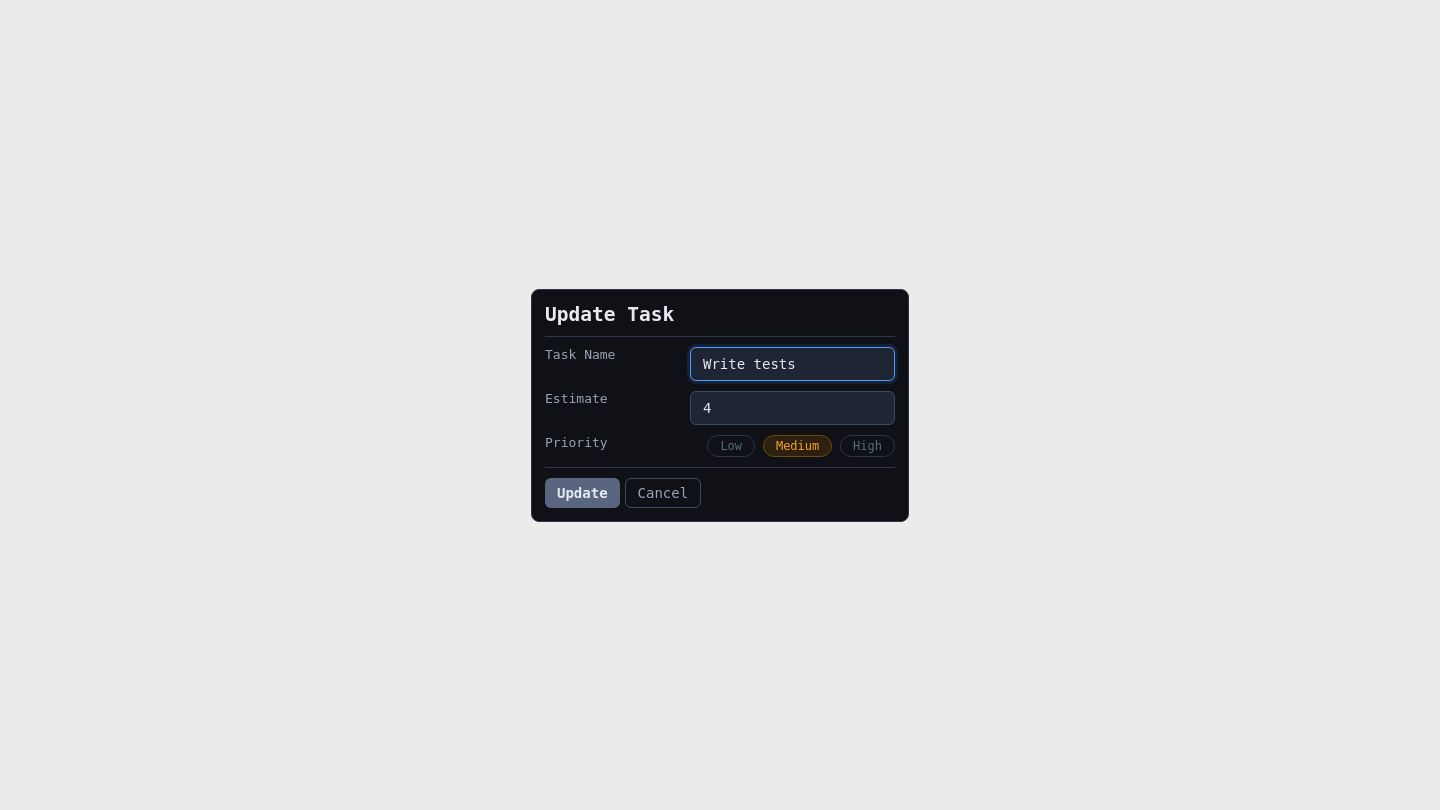
Test case: EditTaskModal › the Update button › enables once the priority changes
Expected: the field with placeholder "Task Name" is not empty, [690,346,895,380]
Click the button "High" at [868, 446], box [840,434,895,456]
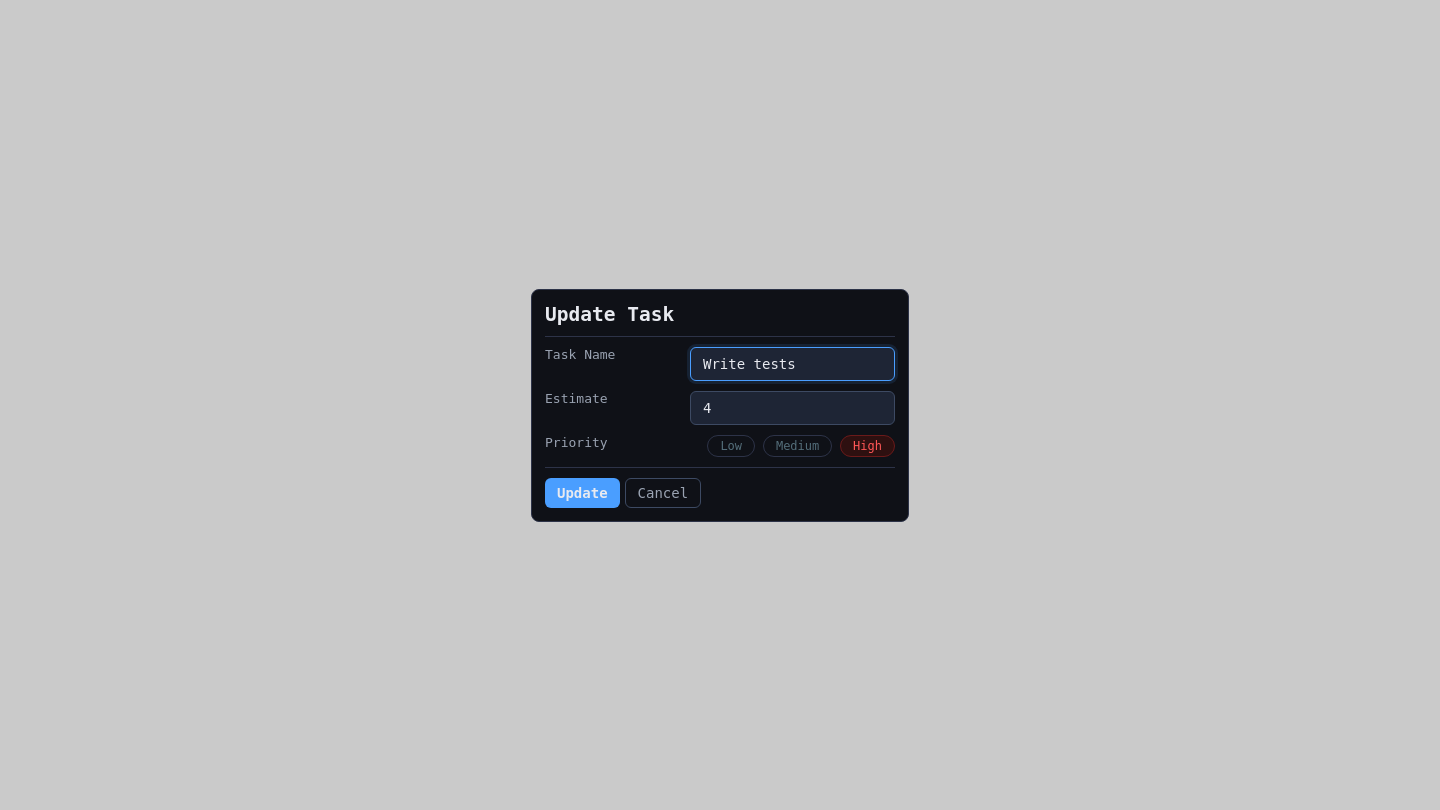
Expected: the button "Update" is enabled, [545,478,620,508]
